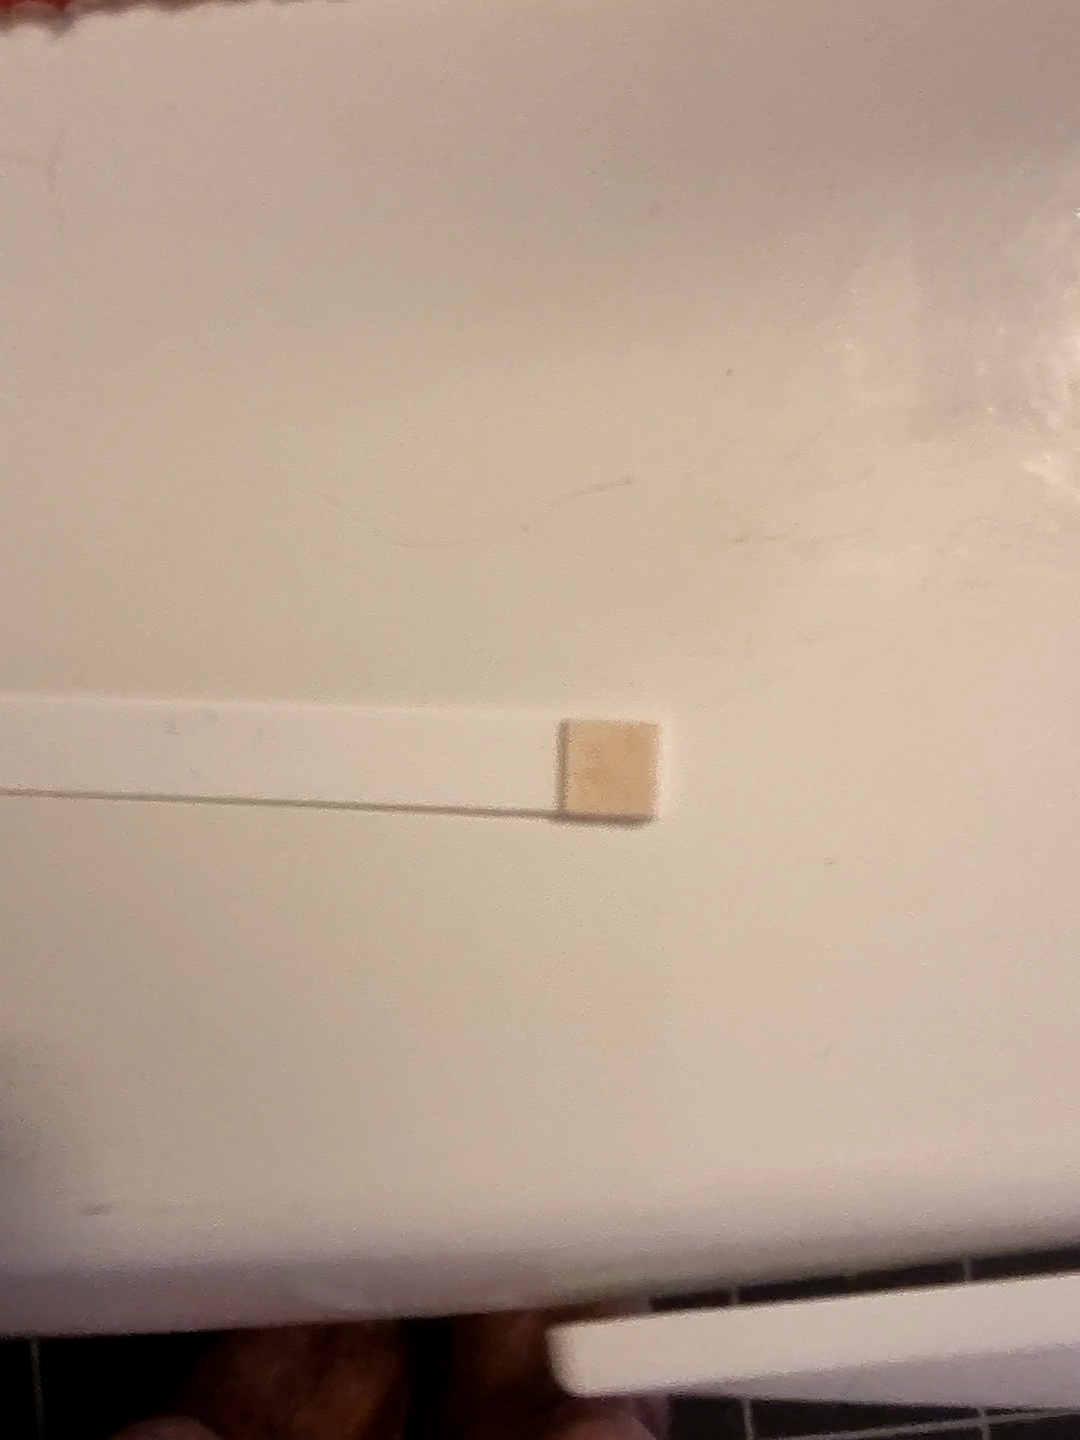keto-tip: (551, 711, 672, 835)
